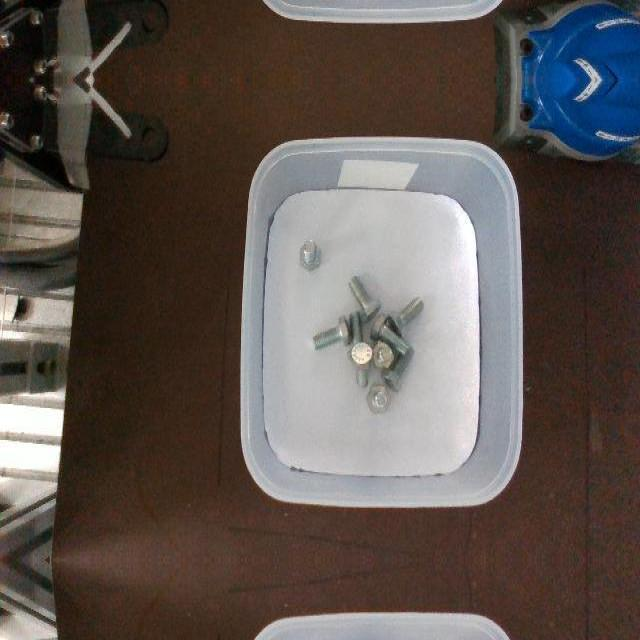screw: (347, 274, 381, 324), (312, 314, 350, 350), (388, 297, 424, 335), (350, 341, 375, 387), (366, 385, 391, 413), (300, 239, 321, 269)
